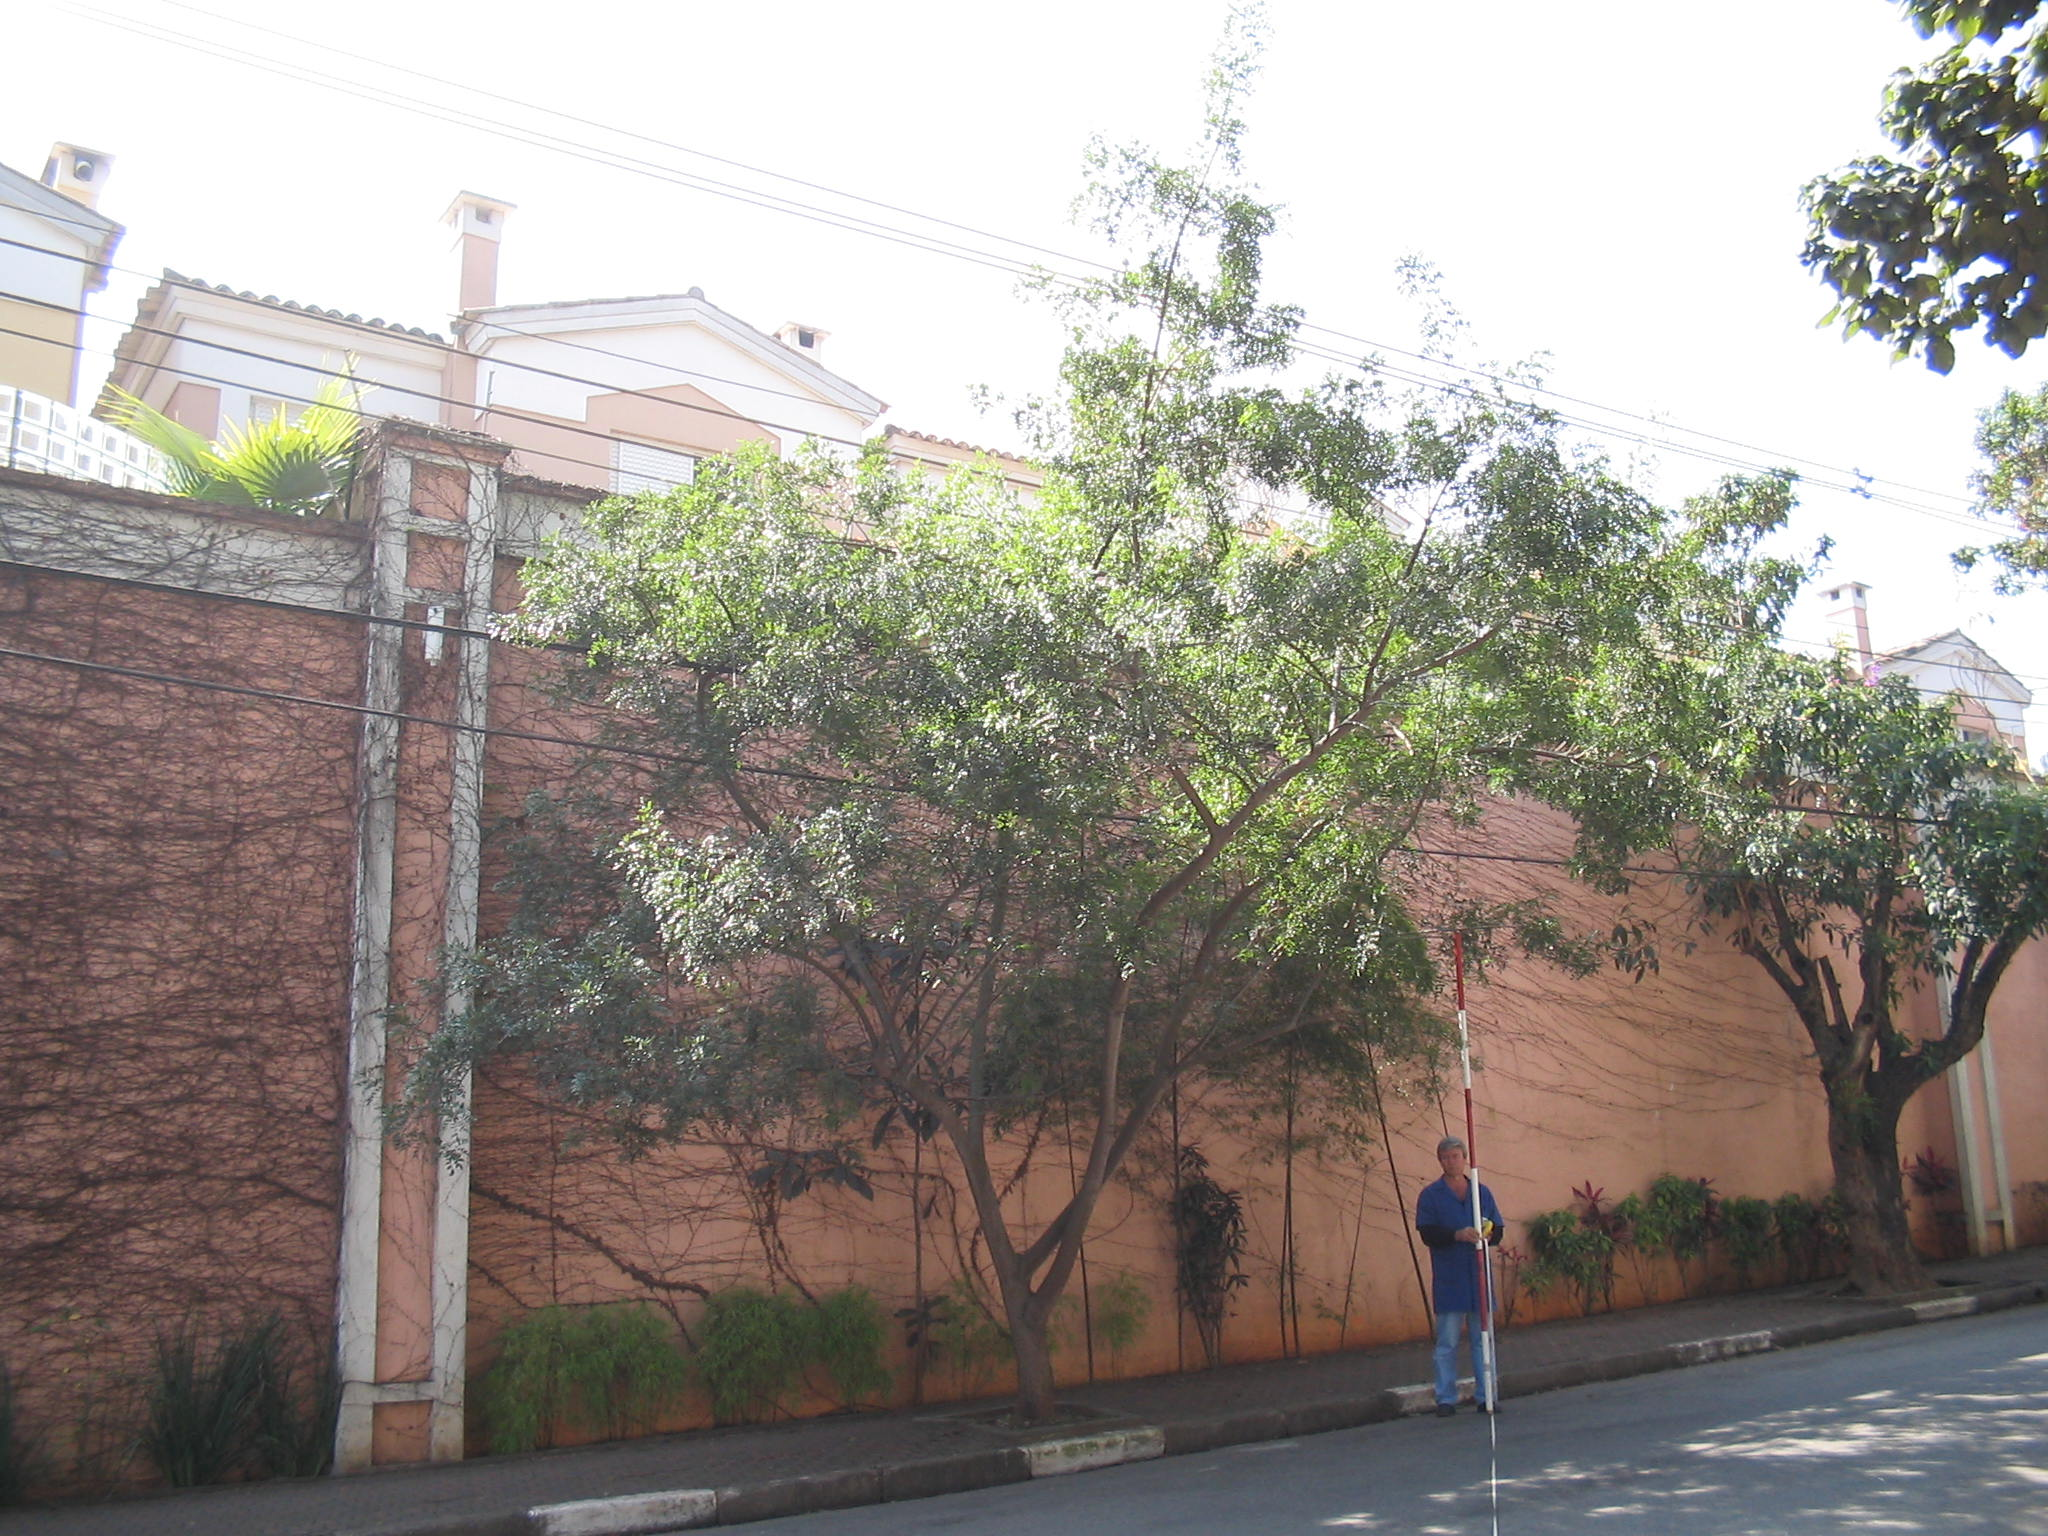crown: (385, 444, 1774, 1234), (1696, 665, 2042, 1037)
stem: (1804, 1083, 1963, 1283), (984, 1307, 1084, 1425)
stick: (1426, 933, 1519, 1417)
tree: (376, 437, 1780, 1430), (1688, 662, 2048, 1288)
